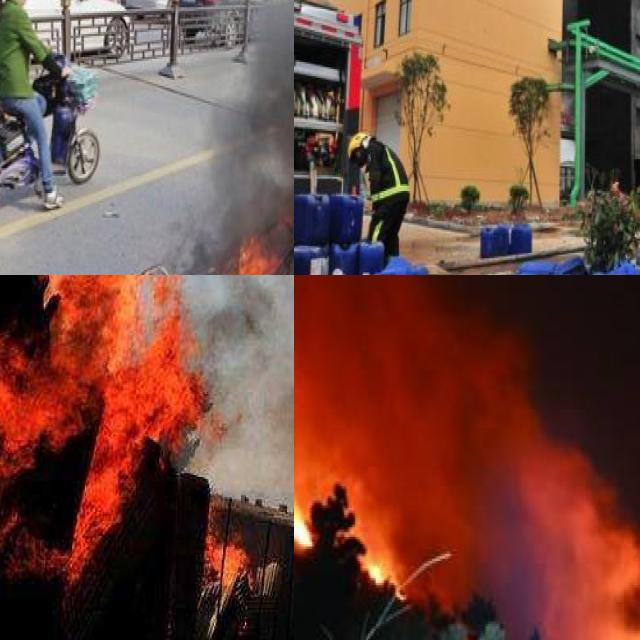fire: (0, 275, 202, 593), (27, 194, 294, 275), (204, 534, 252, 606), (363, 542, 397, 595), (294, 471, 312, 556)
smoke: (294, 275, 640, 640), (205, 0, 294, 243)
